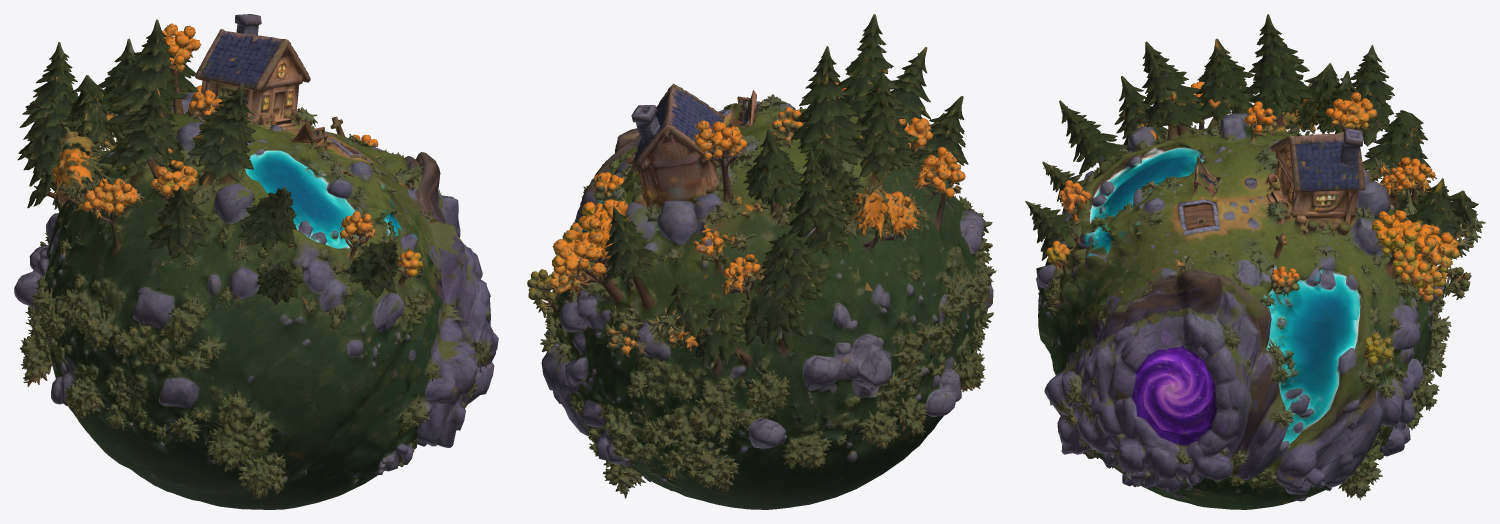
Rendered from planet.glb.
3 renders of one model, left to right at view 1: azimuth 30°, elevation 25°; view 2: azimuth 150°, elevation 25°; view 3: azimuth 270°, elevation 25°, orthographic. The views are drawn at different scales.
Parts seen in each view (by area): view 1: planet; view 2: planet; view 3: planet.
Boxes of the visible parts, box(x1,y1,x2,y2) form: planet: box(14, 14, 498, 509); planet: box(527, 14, 996, 509); planet: box(1025, 14, 1485, 509).
Bounding box in the file's own units: 19.59 × 22.02 × 21.06.
1 material, 1 textured.
